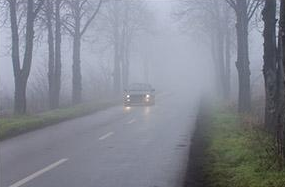car: (122, 81, 157, 107)
